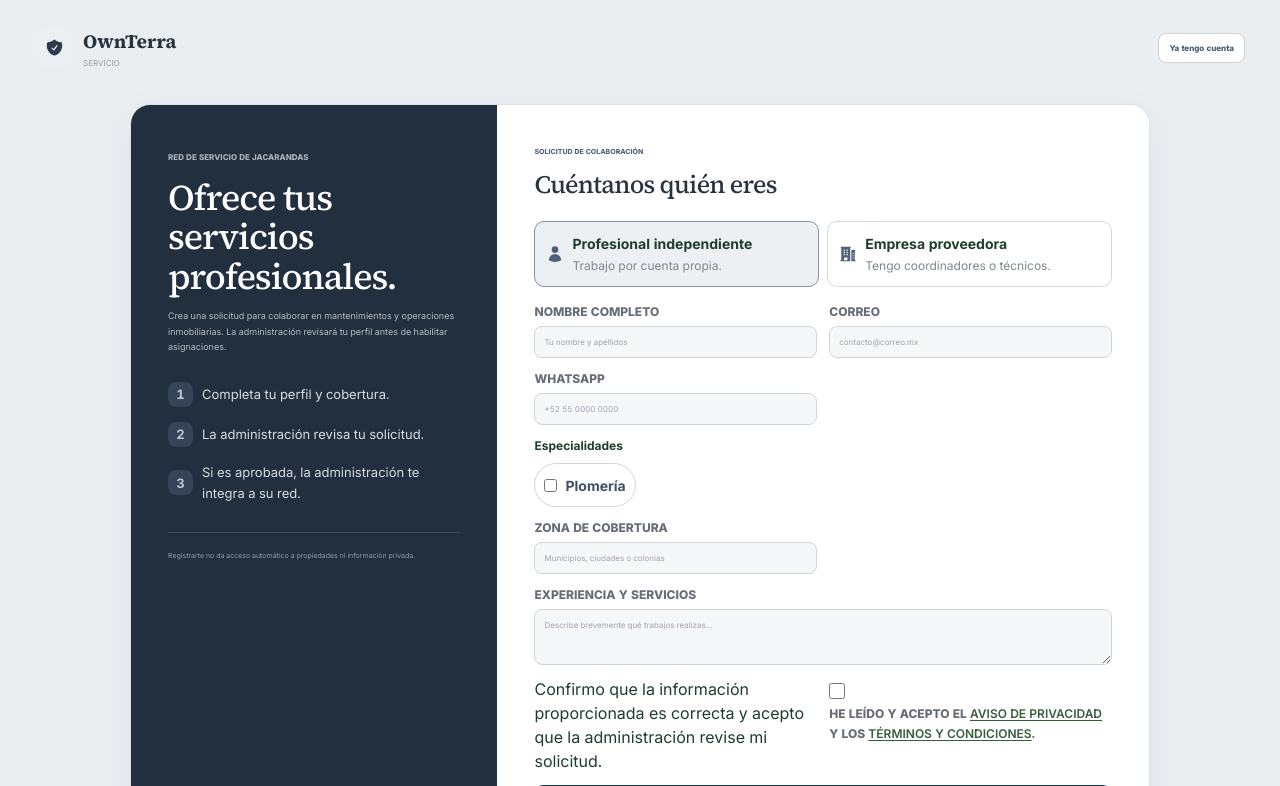
Inscripción pública de proveedores › valida los campos y el consentimiento antes de enviar
Click the checkbox labelled "He leído y acepto". click: (837, 691)
box: [829,683,845,699]
(page scrolled)
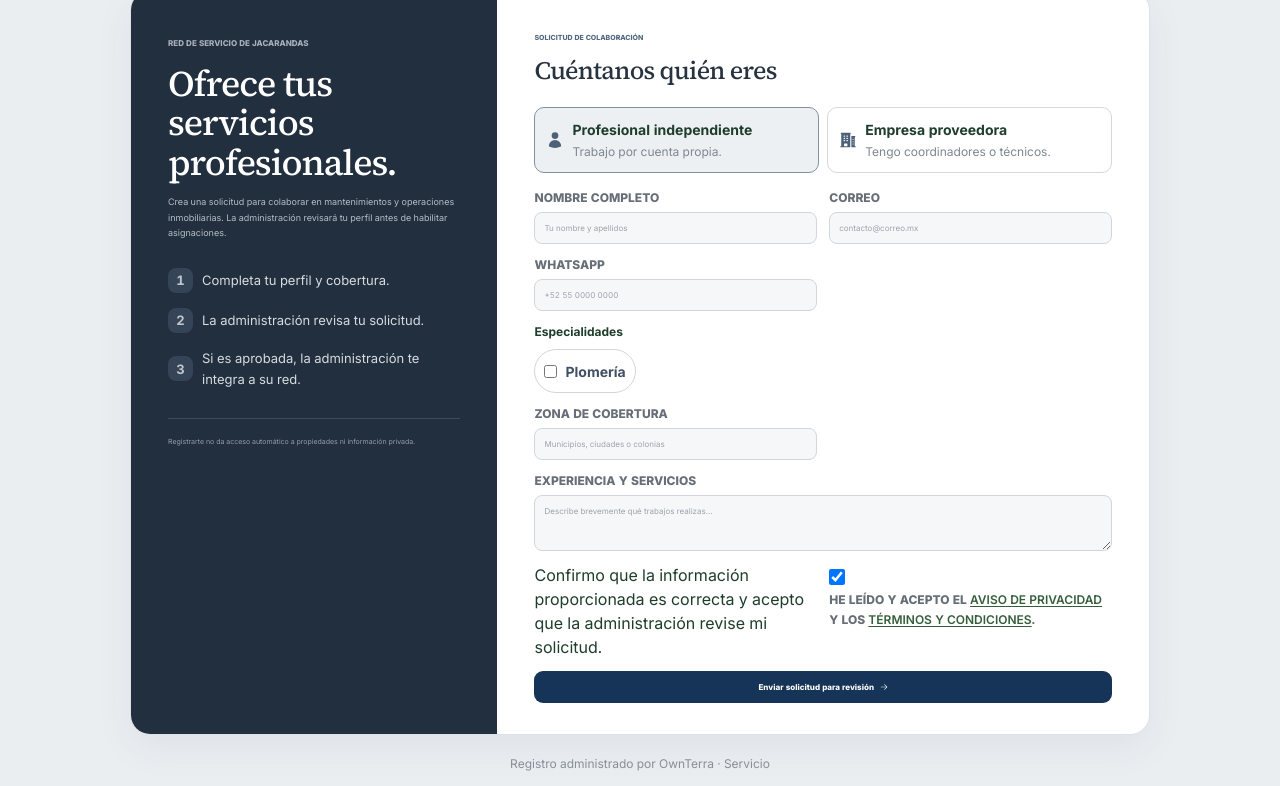
Click the button "Enviar solicitud para revisión". click: (823, 687)
box: [534,671,1112,703]
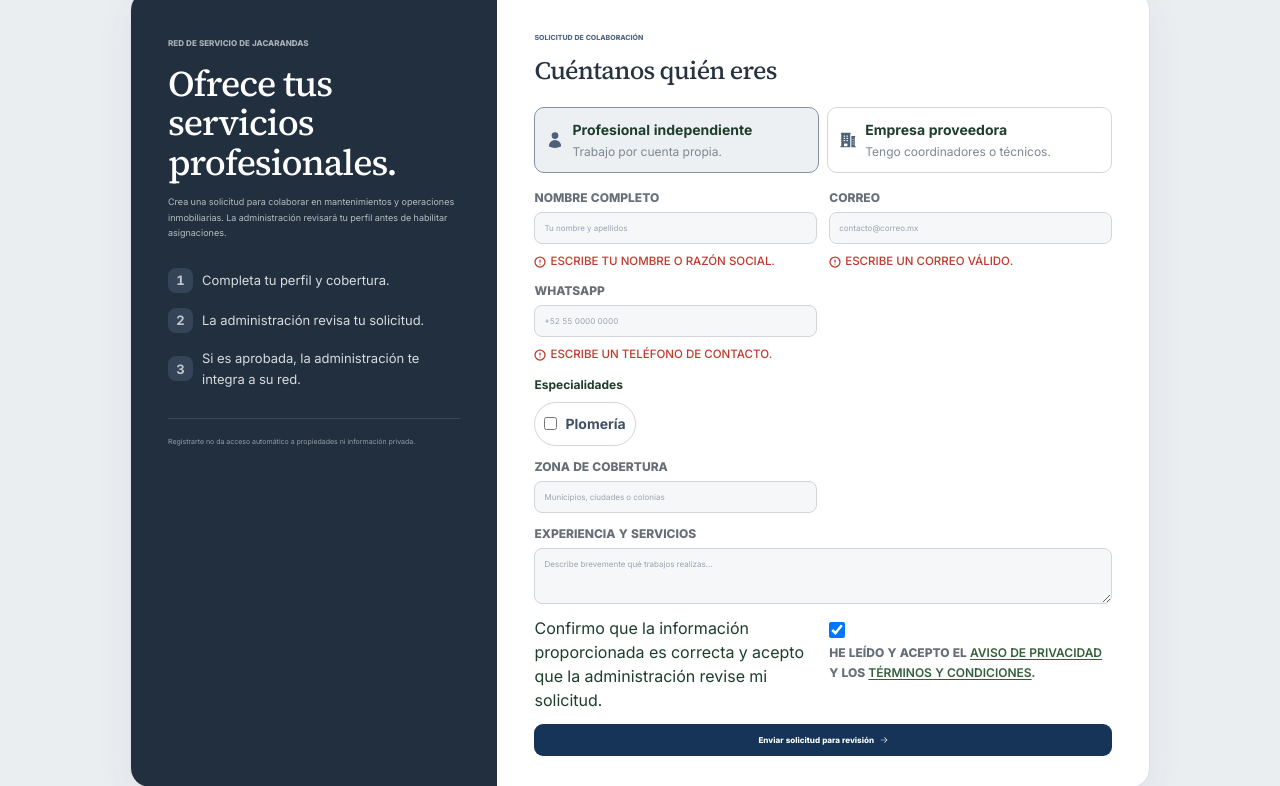
Expected: the text "Escribe tu nombre o razón social." is shown, [534,254,775,268]
Expected: the text "Escribe un correo válido." is shown, [829,254,1013,268]
